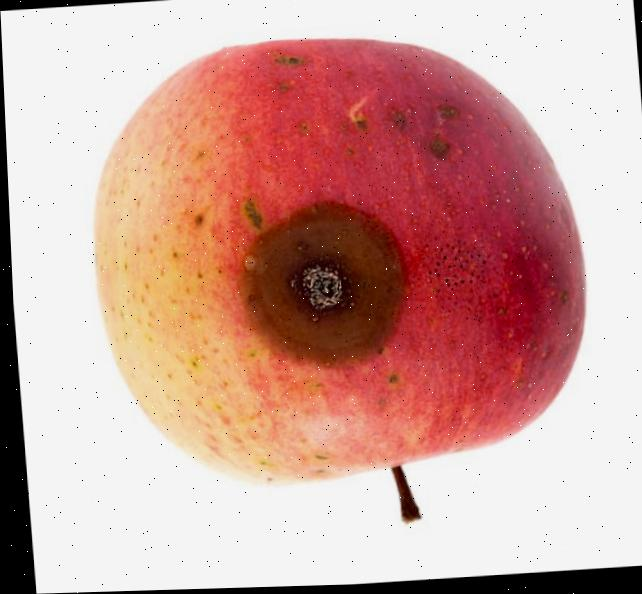ROT: (64, 6, 614, 529)
